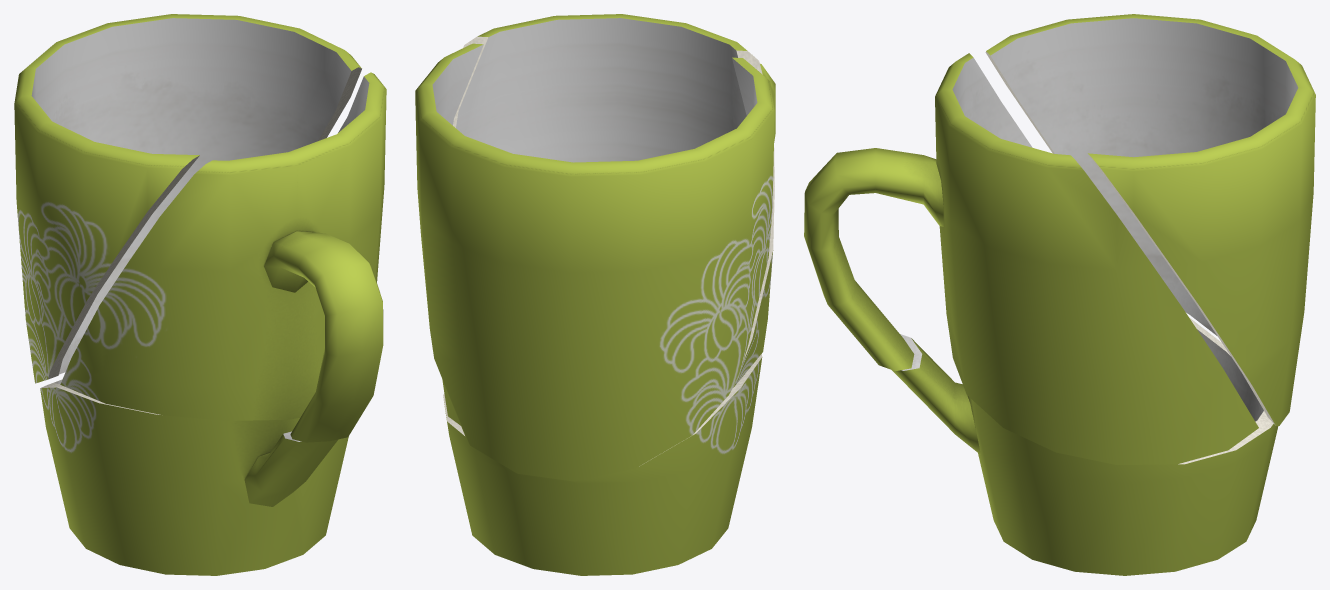
The model's file is Cup_broken.FBX.
3 renders of one model, left to right at view 1: azimuth 30°, elevation 25°; view 2: azimuth 150°, elevation 25°; view 3: azimuth 270°, elevation 25°, orthographic.
Parts seen in each view (by area): view 1: Cup_broken_pt02, Cup_broken_pt03, Cup_broken_pt01; view 2: Cup_broken_pt03, Cup_broken_pt02, Cup_broken_pt01; view 3: Cup_broken_pt02, Cup_broken_pt03, Cup_broken_pt01.
Part boxes in pixels (x1,y1,x2,y2): Cup_broken_pt02: (60,72,386,442); Cup_broken_pt03: (14,14,361,383); Cup_broken_pt01: (40,379,348,575); Cup_broken_pt03: (415,43,774,481); Cup_broken_pt02: (442,14,775,425); Cup_broken_pt01: (443,354,762,575); Cup_broken_pt02: (804,53,1258,465); Cup_broken_pt03: (985,14,1315,425); Cup_broken_pt01: (892,317,1278,575).
Size of the model in its own units: 16.66 by 21.62 by 23.18.
Materials: 1 (1 with a texture image).
